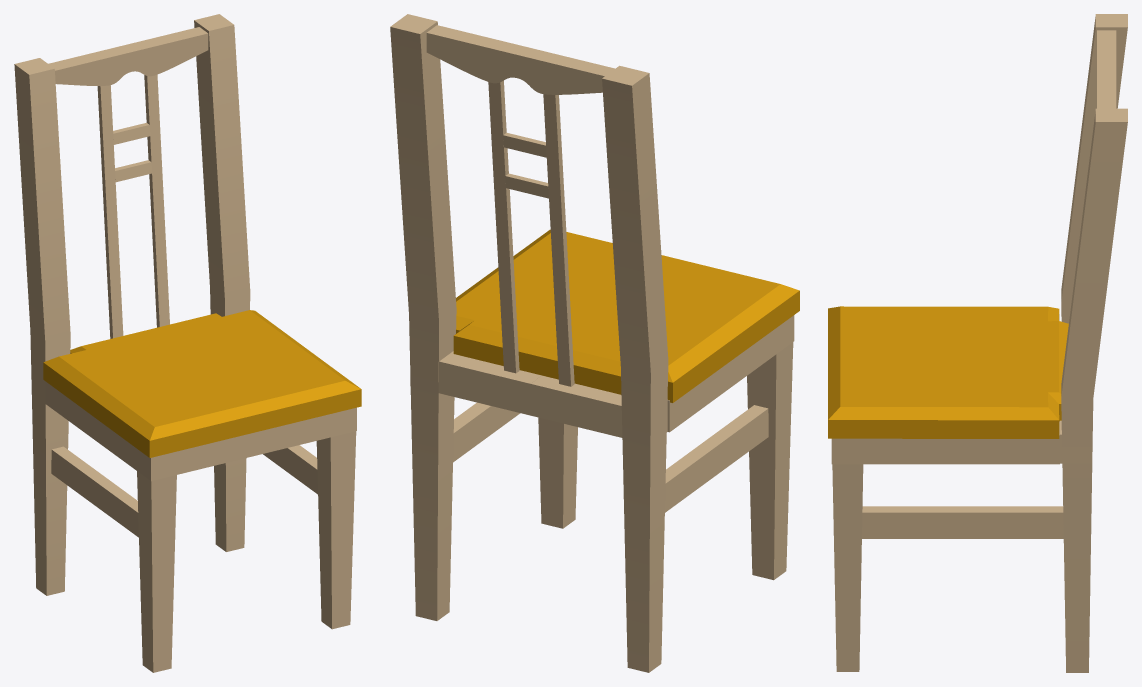
Rendered from sweethome3d-contributions-orange-chair-211.glb.
The picture shows the model from 3 angles, left to right: view 1: azimuth 30°, elevation 25°; view 2: azimuth 150°, elevation 25°; view 3: azimuth 270°, elevation 25°; orthographic projection. The views are drawn at different scales.
Visible parts, largest first — view 1: CHAIRS_SKELETON, CHAIRS_SEAT; view 2: CHAIRS_SKELETON, CHAIRS_SEAT; view 3: CHAIRS_SKELETON, CHAIRS_SEAT.
Boxes of the visible parts, <box> form: CHAIRS_SKELETON: <box>14,14,356,672</box>; CHAIRS_SEAT: <box>43,310,361,457</box>; CHAIRS_SKELETON: <box>390,14,794,672</box>; CHAIRS_SEAT: <box>453,229,799,402</box>; CHAIRS_SKELETON: <box>831,14,1127,672</box>; CHAIRS_SEAT: <box>828,306,1068,438</box>.
Bounding box in the file's own units: 41.23 × 95 × 46.7.
